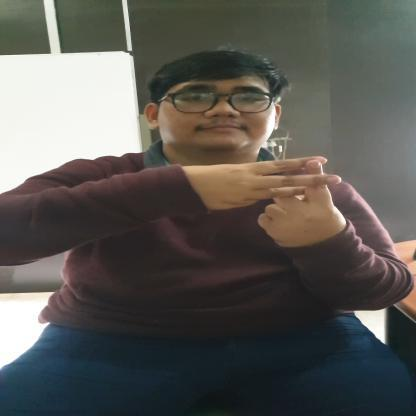B: (192, 148, 348, 250)
